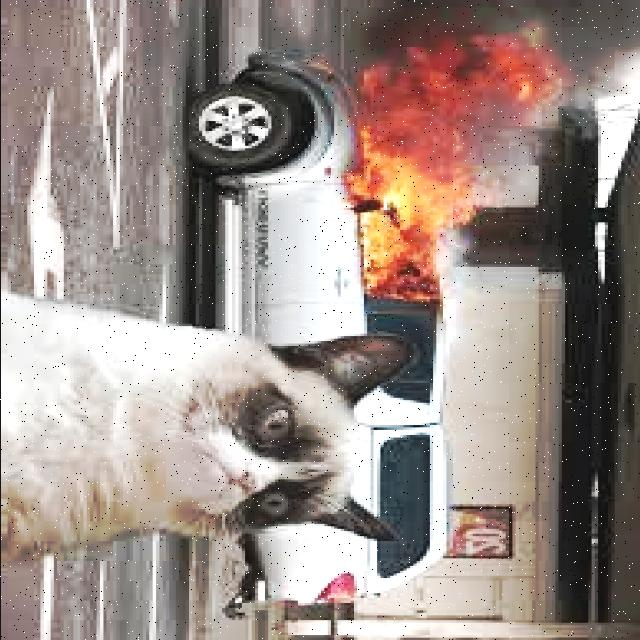api: (341, 34, 569, 298)
